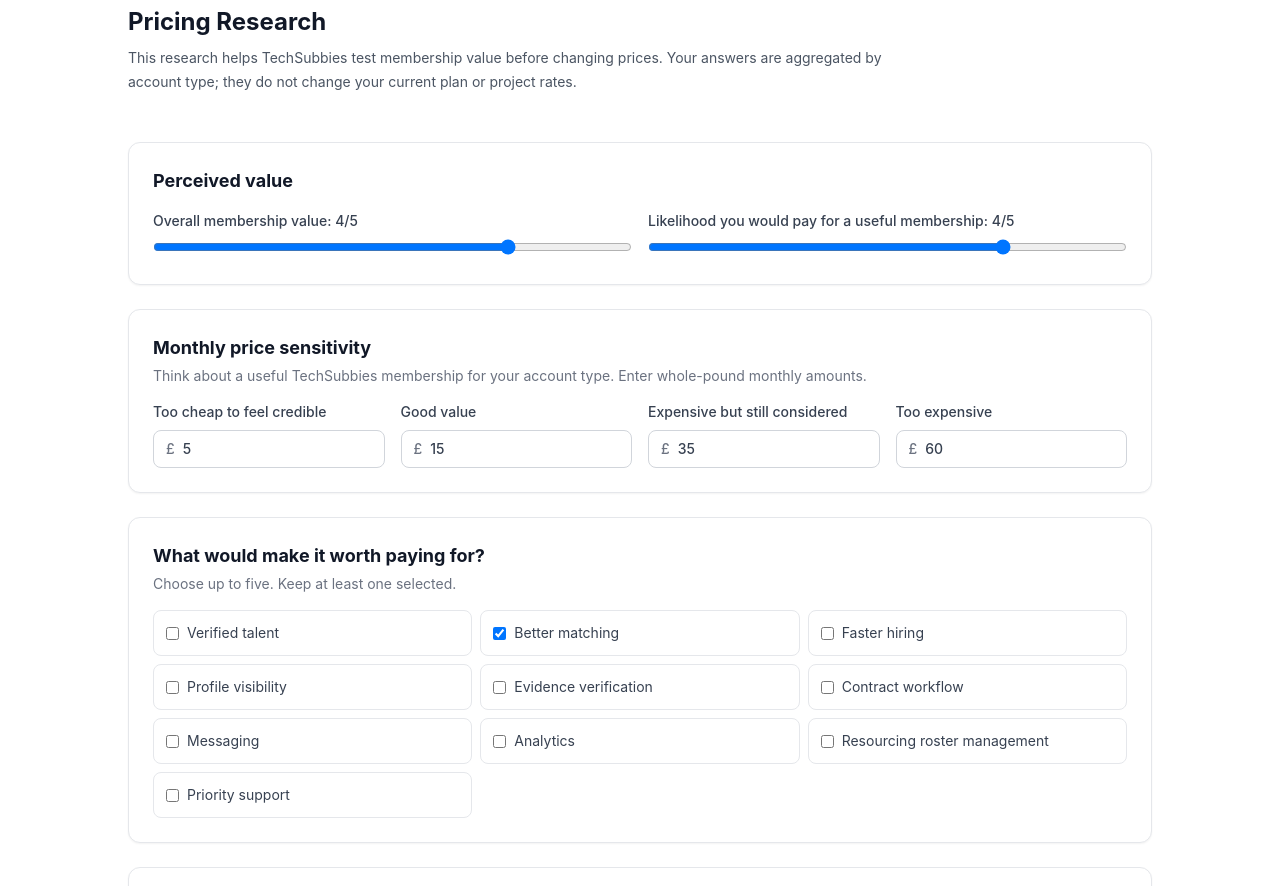
Test: PricingResearchView › blocks contradictory price thresholds before submission
Expected: the heading "Pricing Research" is shown, x1=128 y1=7 x2=326 y2=36
Step 1. Replace the text in the number field labelled "Good value" with "50" → (521,449), box x1=422 y1=431 x2=619 y2=467
(page scrolled)
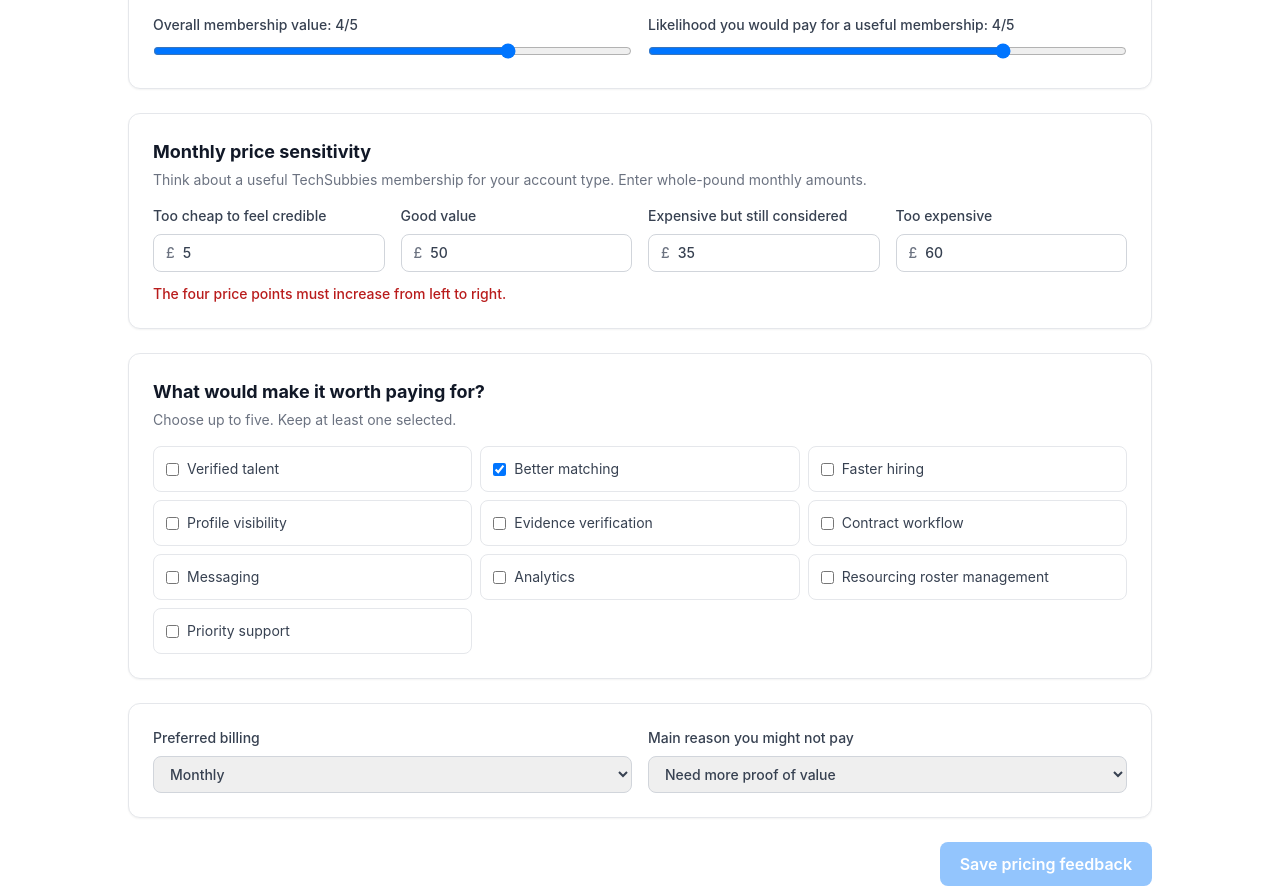
Expected: the text "The four price points must increase from left to right." is shown, x1=153 y1=285 x2=506 y2=302
Expected: the button "Save pricing feedback" is disabled, x1=940 y1=842 x2=1152 y2=885
